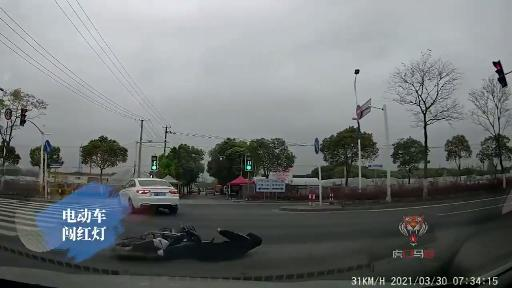Accident: (108, 220, 266, 267)
CAR: (107, 176, 182, 216)
